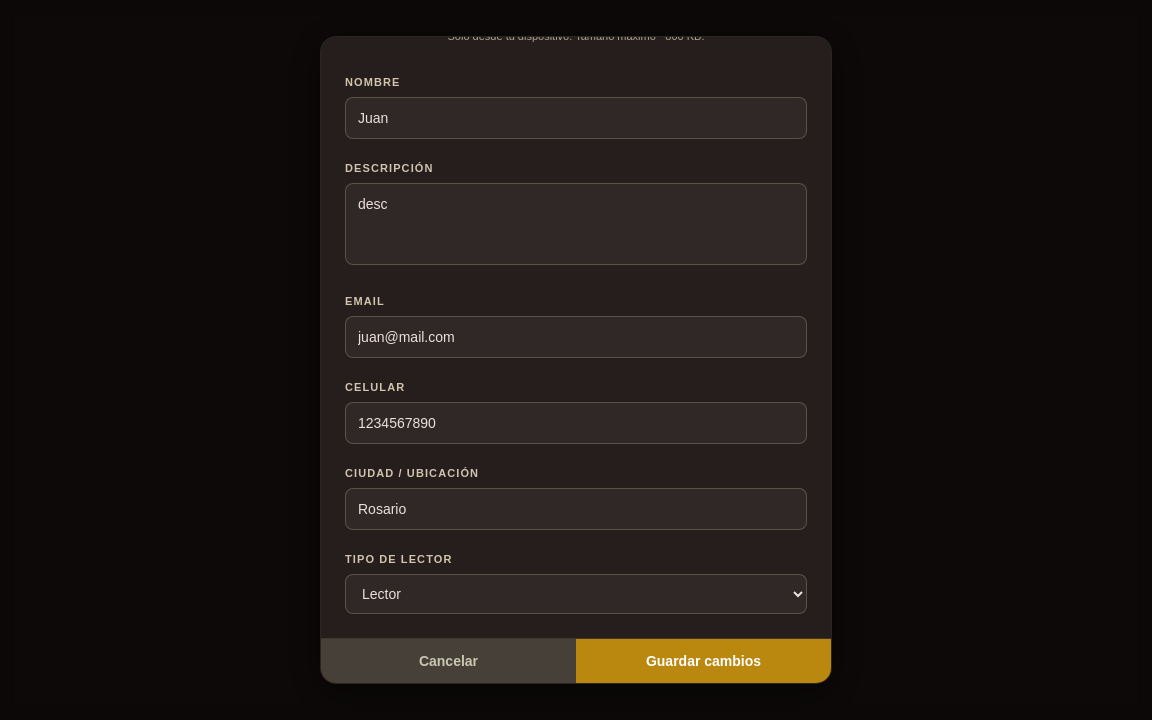
it: ModalEditarPerfil › muestra error en celular cuando backend devuelve 409 por celular duplicado
(page scrolled)
Click the button "Guardar cambios" at (704, 660), box [576,638,831,682]
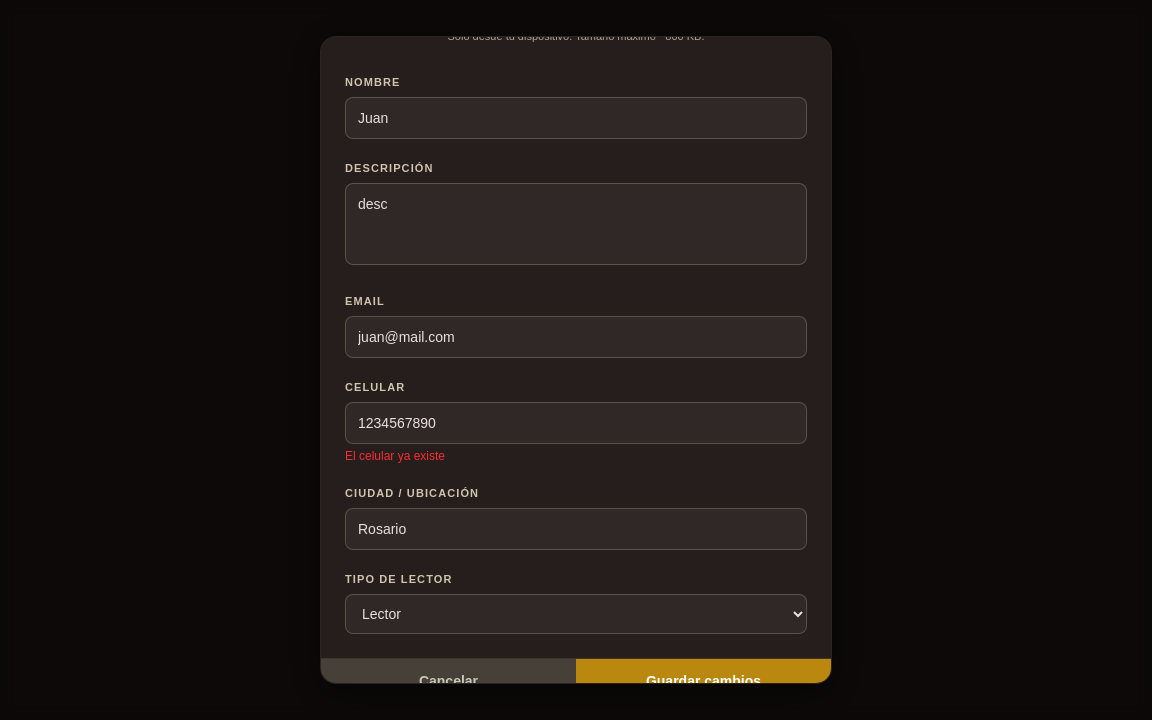
Expected: the text "El celular ya existe" is shown, [345,448,445,462]
